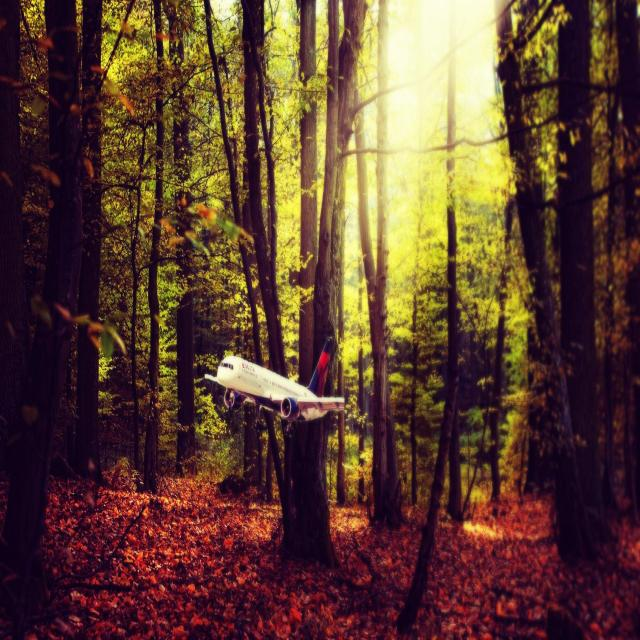airplane: (204, 335, 345, 424)
